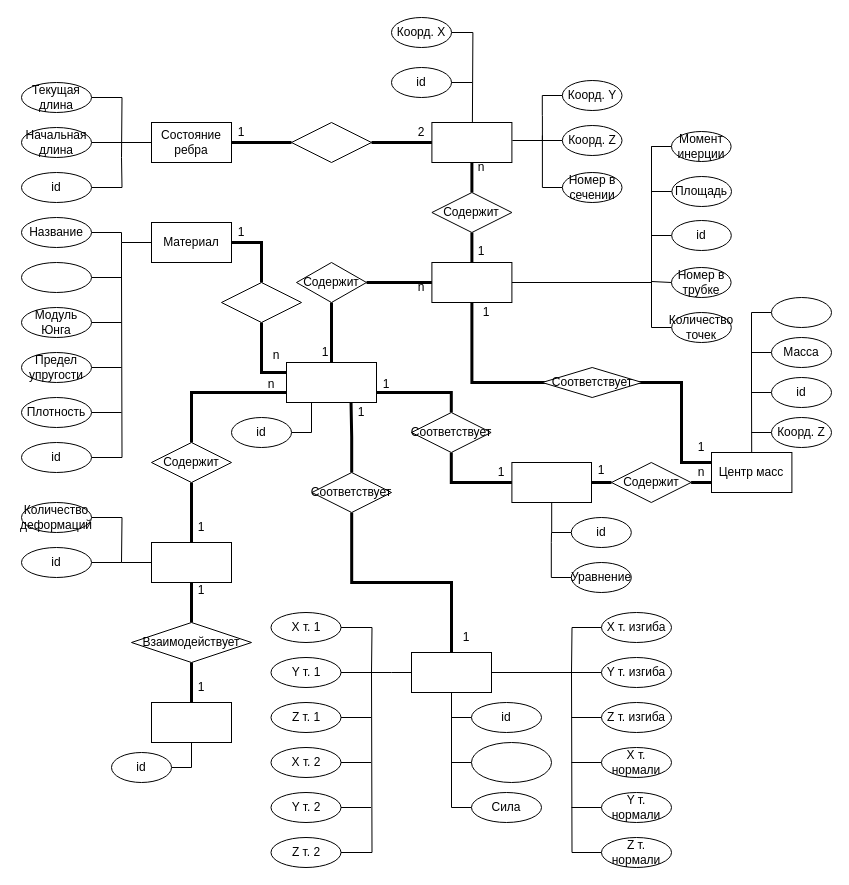
This 849x885 diagram has some shape labels left out. Here are the shapes that lost their labels. From the top down, the centre of each, then its label:
pixel 331 142: Соединяет
pixel 471 142: Состояние точки
pixel 56 277: Коэффициент Пуассона
pixel 471 282: Состояние сечения
pixel 261 302: Состоит
pixel 801 312: Номер на оси
pixel 331 382: Состояние трубки
pixel 551 482: Ось трубки
pixel 191 562: История деформации
pixel 451 672: Параметры деформации
pixel 191 722: Пользователь
pixel 511 762: Тип деформации
